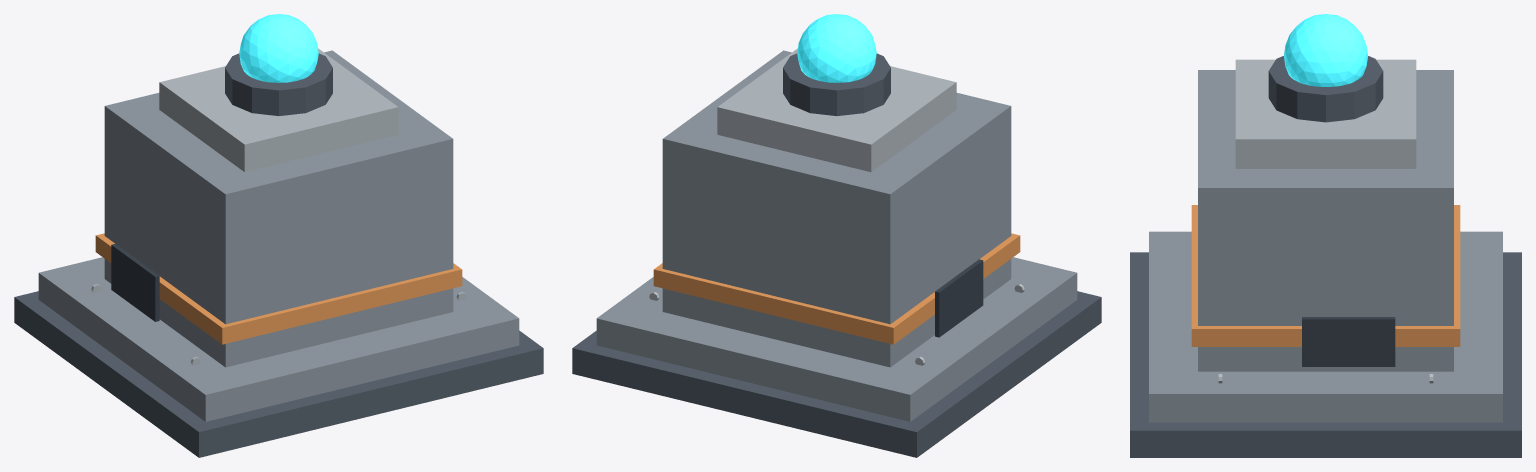
3 renders of one model, left to right at view 1: azimuth 30°, elevation 25°; view 2: azimuth 150°, elevation 25°; view 3: azimuth 270°, elevation 25°, orthographic. The views are drawn at different scales.
Visible parts, largest first — view 1: detail_002, detail_001, detail_000, detail_004, detail_003, detail_006, detail_005, detail_011; view 2: detail_002, detail_001, detail_000, detail_004, detail_003, detail_006, detail_005, detail_011; view 3: detail_002, detail_001, detail_000, detail_004, detail_003, detail_006, detail_005, detail_014.
Boxes of the visible parts, x1,y1,x2,y2 form: detail_002: [104, 50, 453, 367]; detail_001: [38, 257, 519, 421]; detail_000: [14, 291, 543, 457]; detail_004: [159, 48, 398, 172]; detail_003: [95, 233, 462, 344]; detail_006: [239, 14, 318, 82]; detail_005: [225, 53, 332, 115]; detail_011: [111, 243, 159, 321]; detail_002: [662, 50, 1011, 367]; detail_001: [596, 257, 1077, 421]; detail_000: [572, 291, 1101, 457]; detail_004: [717, 48, 956, 172]; detail_003: [653, 233, 1020, 344]; detail_006: [797, 14, 876, 82]; detail_005: [783, 53, 890, 115]; detail_011: [935, 259, 983, 337]; detail_002: [1198, 70, 1453, 371]; detail_001: [1149, 231, 1502, 422]; detail_000: [1130, 252, 1521, 457]; detail_004: [1235, 59, 1416, 168]; detail_003: [1191, 205, 1460, 346]; detail_006: [1284, 14, 1367, 86]; detail_005: [1268, 56, 1383, 122]; detail_014: [1302, 317, 1395, 366].
Bounding box in the file's own units: 2.8 × 2.57 × 2.6.
